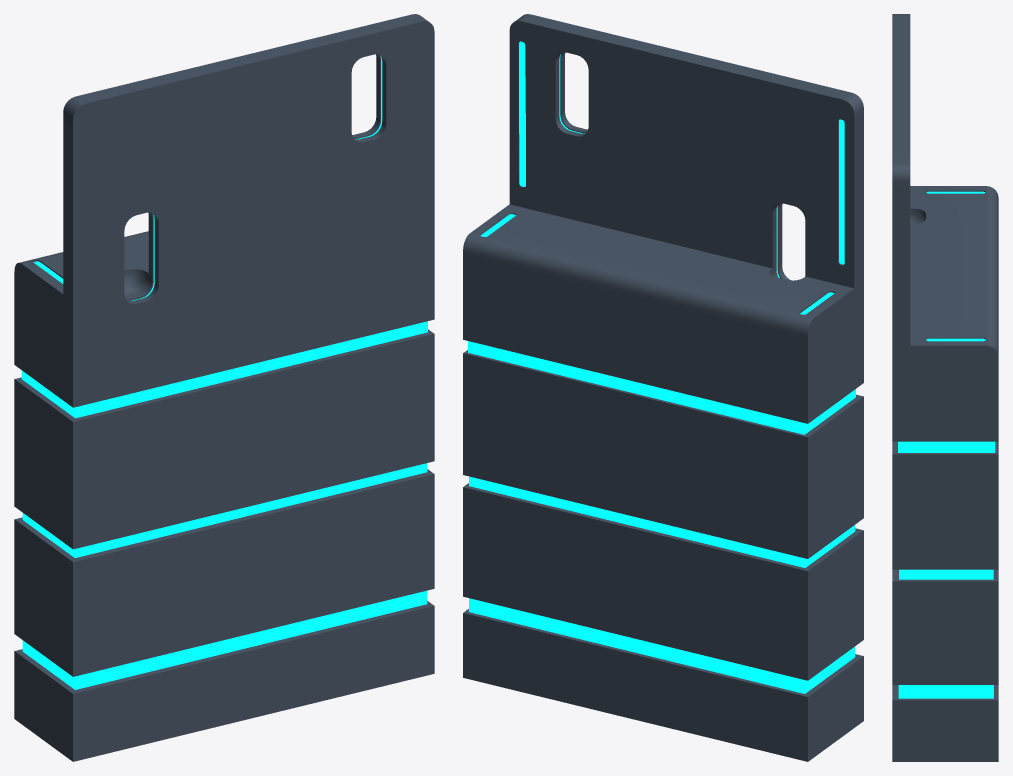
Rendered from Nivel_2-Modulo3.fbx.
The picture shows the model from 3 angles, left to right: view 1: azimuth 30°, elevation 25°; view 2: azimuth 150°, elevation 25°; view 3: azimuth 270°, elevation 25°; orthographic projection. The views are drawn at different scales.
Parts seen in each view (by area): view 1: Part3_1, Part3_2; view 2: Part3_1, Part3_2; view 3: Part3_1, Part3_2.
Boxes of the visible parts, x1,y1,x2,y2 form: Part3_1: (14, 14, 434, 761); Part3_2: (21, 56, 427, 689); Part3_1: (463, 14, 863, 761); Part3_2: (468, 41, 855, 693); Part3_1: (892, 14, 998, 761); Part3_2: (898, 191, 995, 698).
Size of the model in its own units: 21.36 by 37 by 6.
